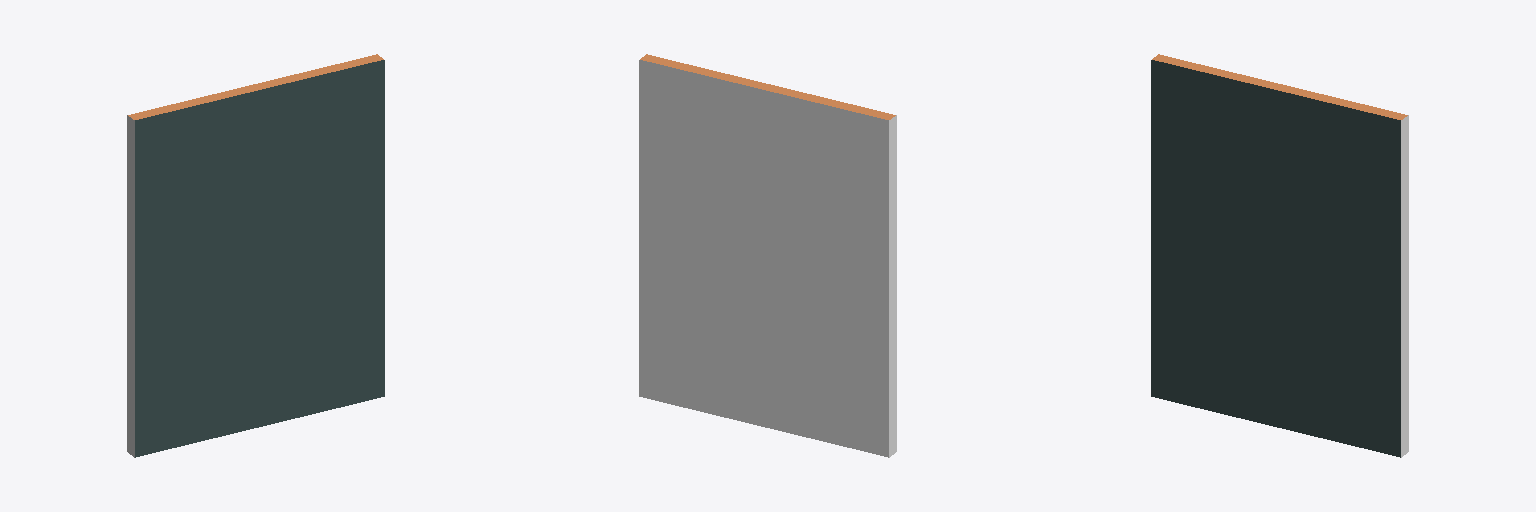
Rendered from wall.obj.
The picture shows the model from 3 angles: view 1: azimuth 30°, elevation 25°; view 2: azimuth 150°, elevation 25°; view 3: azimuth 330°, elevation 25°; orthographic projection.
Visible parts, largest first — view 1: wall; view 2: wall; view 3: wall.
Boxes of the visible parts, x1,y1,x2,y2 form: wall: [127, 54, 384, 457]; wall: [639, 54, 896, 457]; wall: [1151, 54, 1408, 457].
Bounding box in the file's own units: 1 × 1.29 × 0.05.